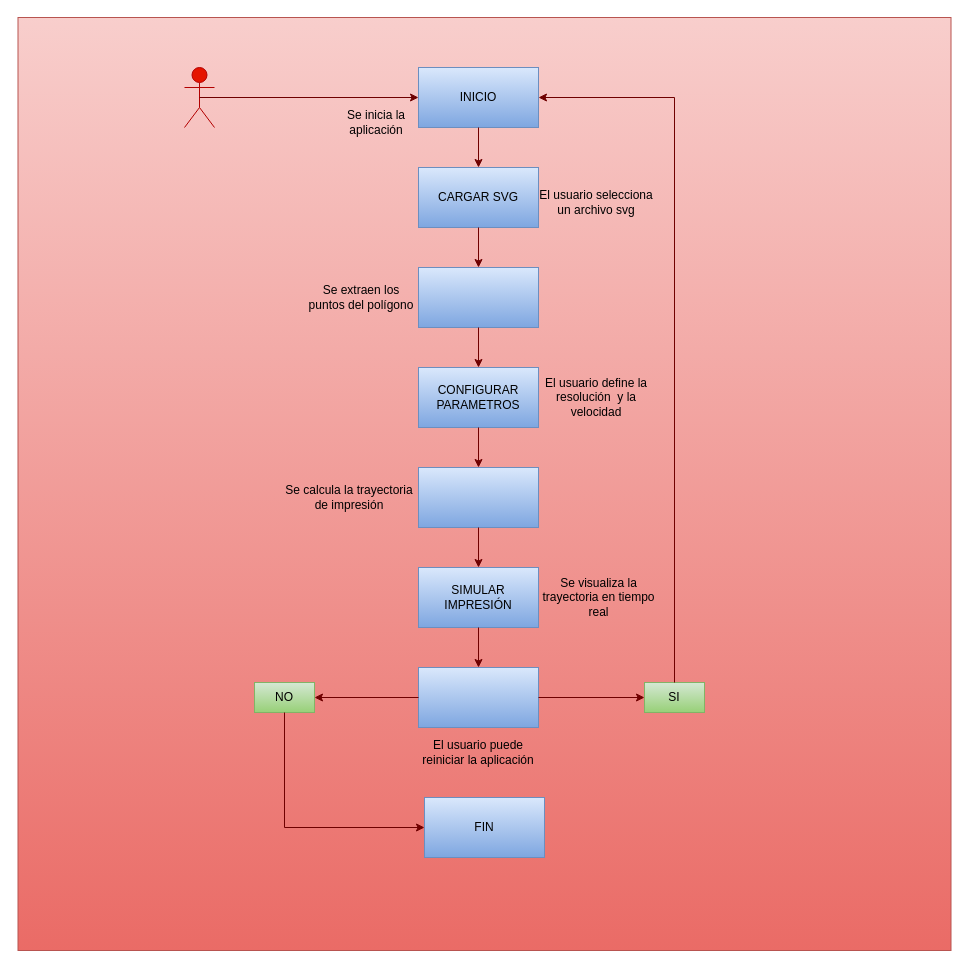
This 968x968 diagram has some shape labels left out. The shapes that lost their labels are listed below. From the top down, each one's centre as x and y in pixels, then its label:
At point 199,97: "Usuario".
At point 478,297: "PROCESAR SVG".
At point 478,497: "GENERAR TRAYECTORIA".
At point 478,697: "¿ REINICIAR?".
